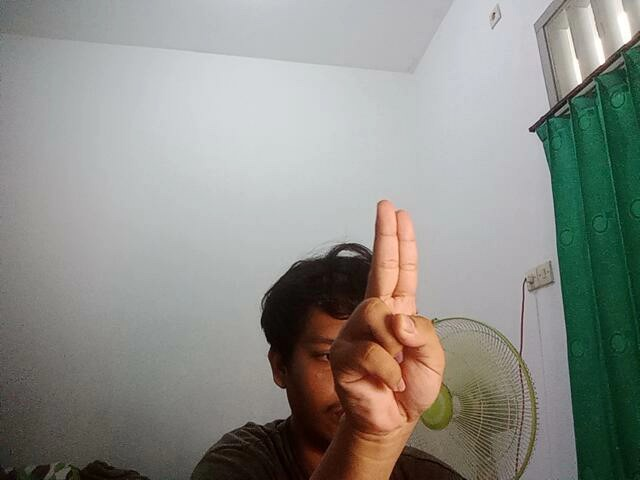U: (325, 194, 450, 430)
